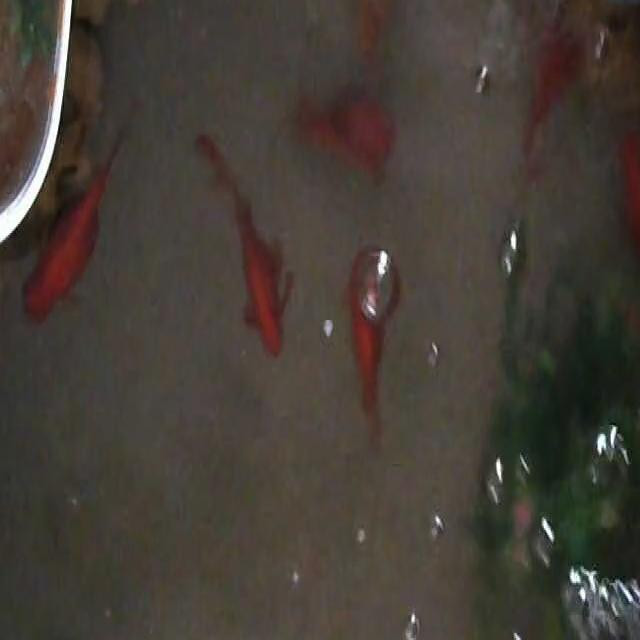fish: (193, 128, 294, 358), (18, 123, 125, 324), (293, 81, 397, 187), (519, 13, 585, 178), (352, 306, 384, 448), (620, 132, 640, 336), (356, 0, 393, 62)
